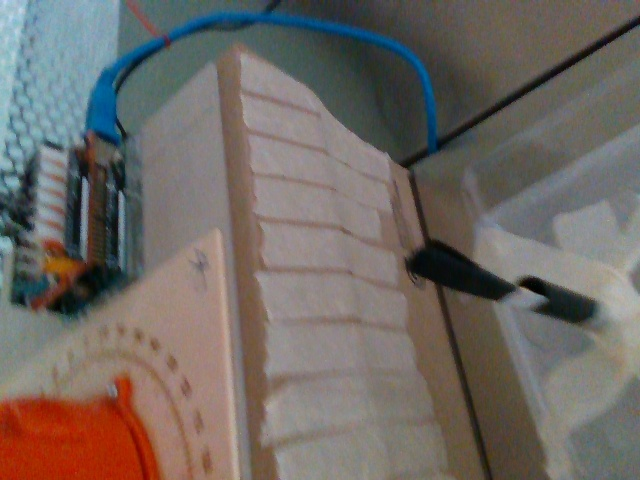test_strip: (403, 237, 543, 312)
